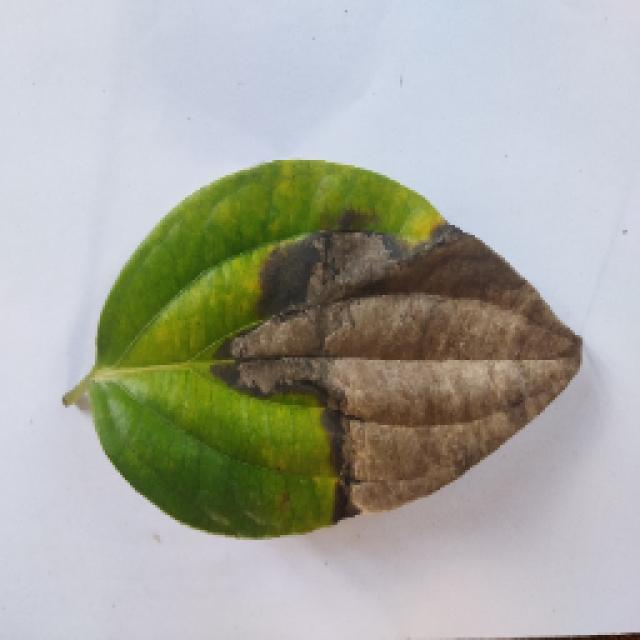footrot: (62, 155, 572, 540)
